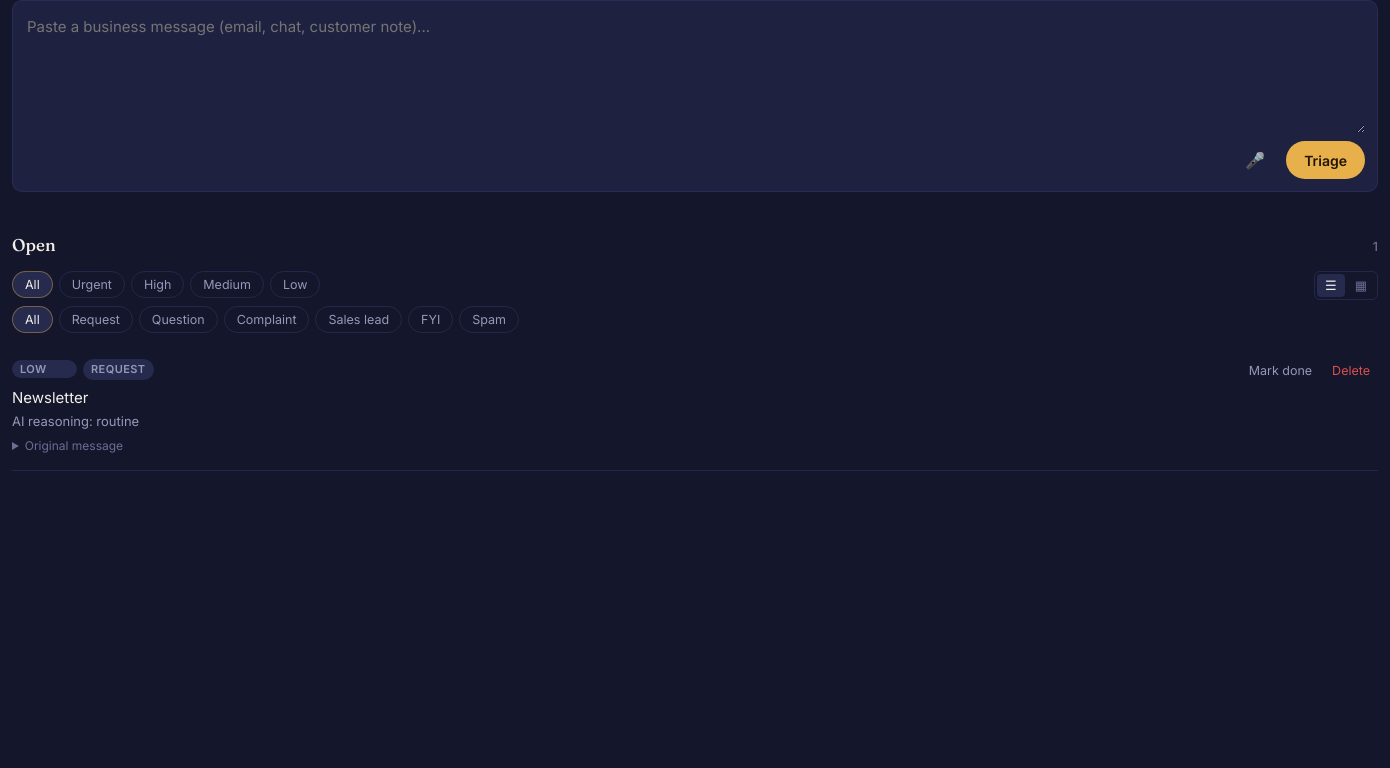
BusinessTab › triages a pasted message and inserts it in priority order
The width and height of the screenshot is (1390, 768).
Expected: the text "Newsletter" is shown, [12,388,88,407]
In the text box with placeholder "Paste a business message (email, chat, customer note)...": {"x": 695, "y": 73} [25,13,1365,133], type "we are down"
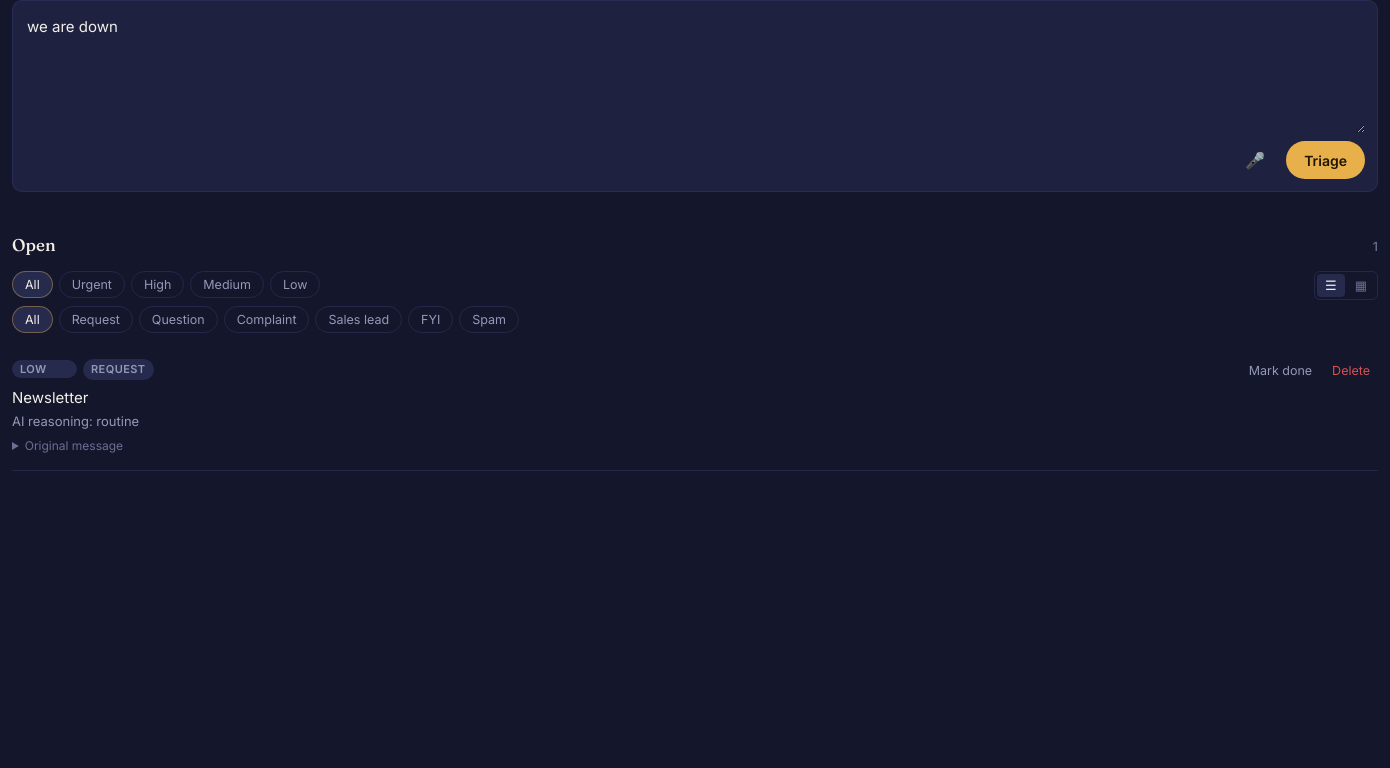
Click the button "Triage": {"x": 1326, "y": 160} [1286,141,1365,179]
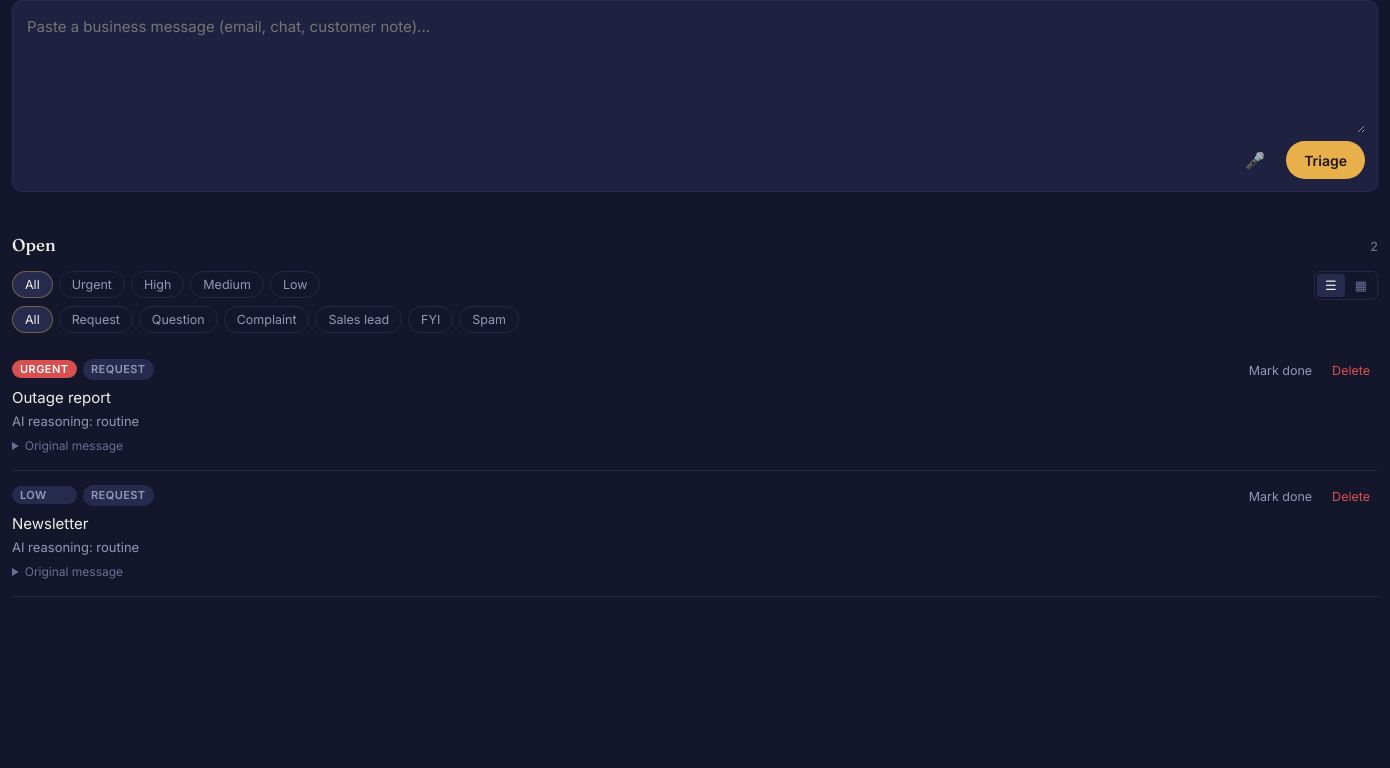
Expected: the text "Outage report" is shown, [12,388,111,407]
Expected: the elements with test id "message-summary" read "Outage report", "Newsletter", in this order, [12,388,111,407]; [12,514,88,533]
